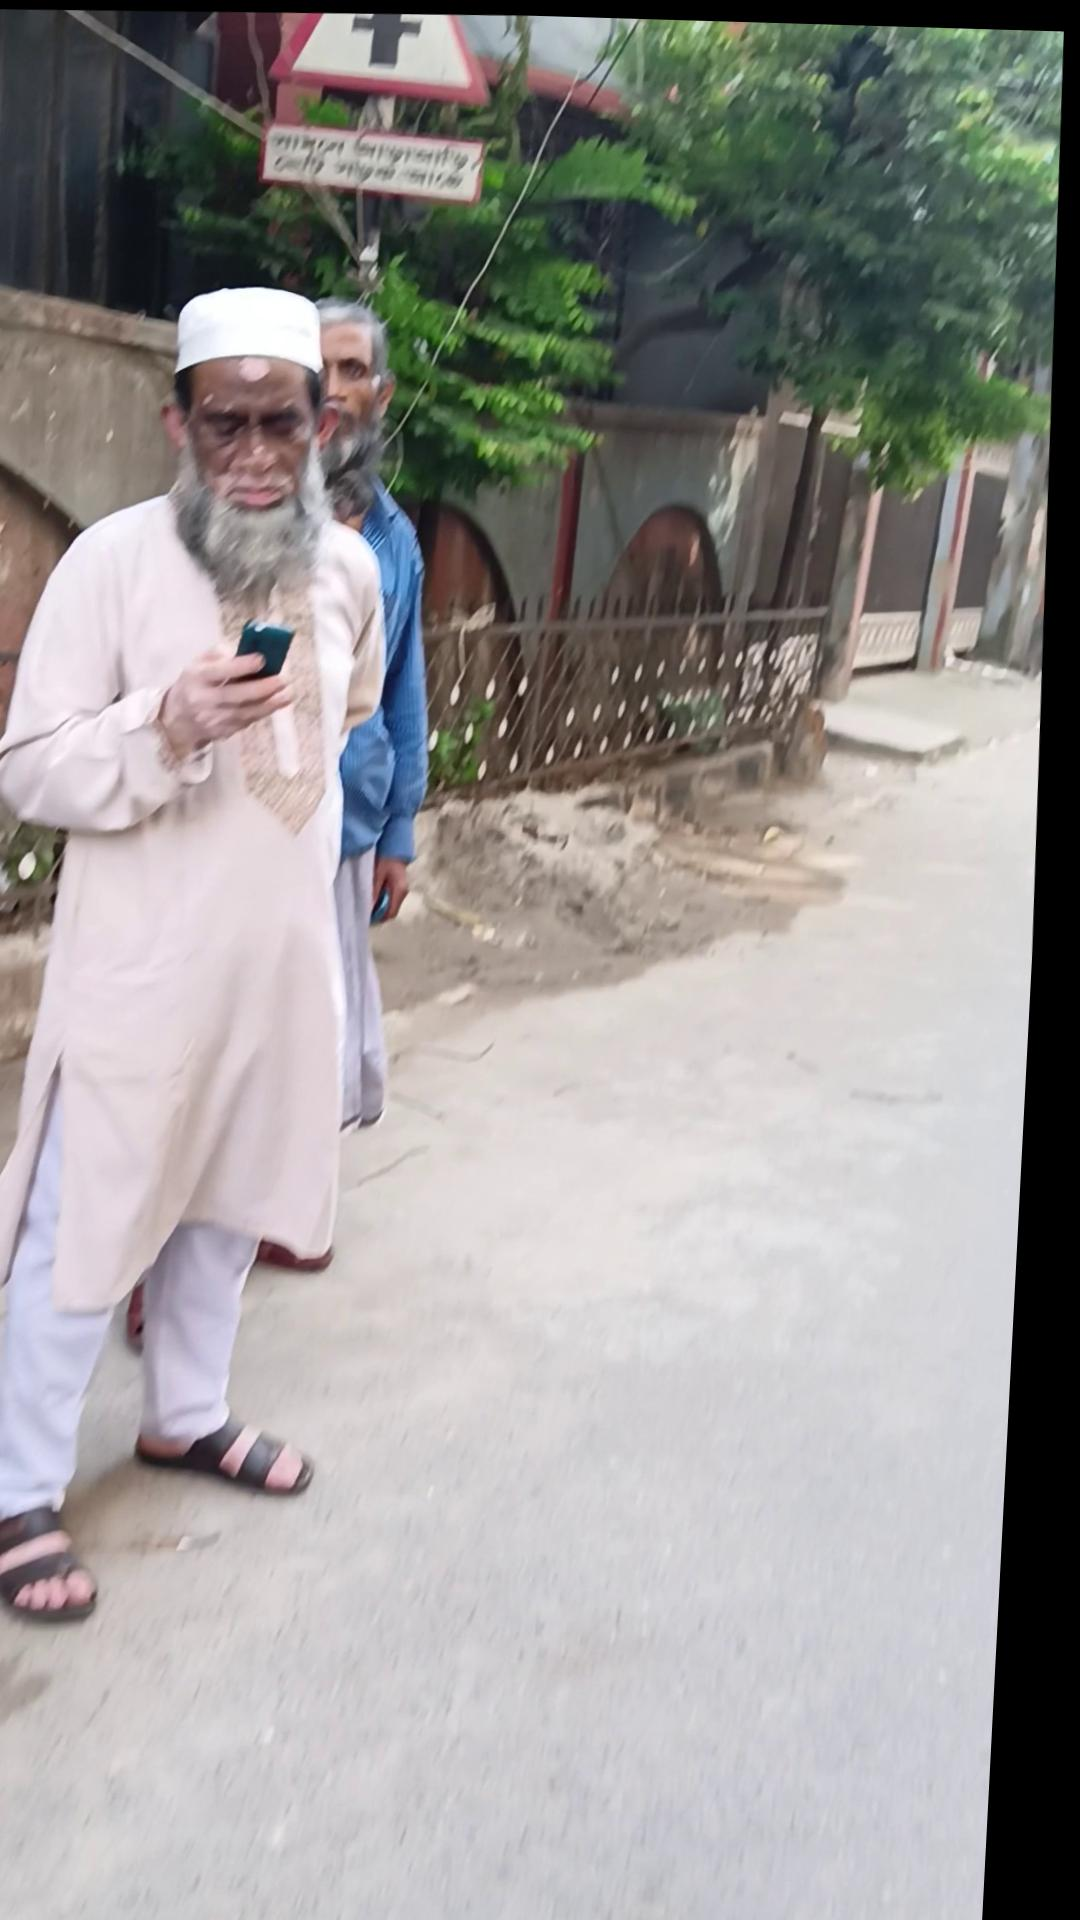Broken-road: (434, 715, 787, 825), (662, 823, 857, 899), (822, 687, 975, 762)
Curb: (0, 273, 430, 1629)
Light-pole: (94, 3, 700, 527)
